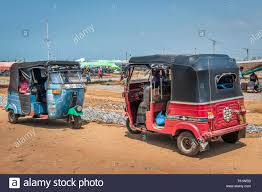tuk tuk: (124, 55, 248, 155), (5, 61, 86, 131)
